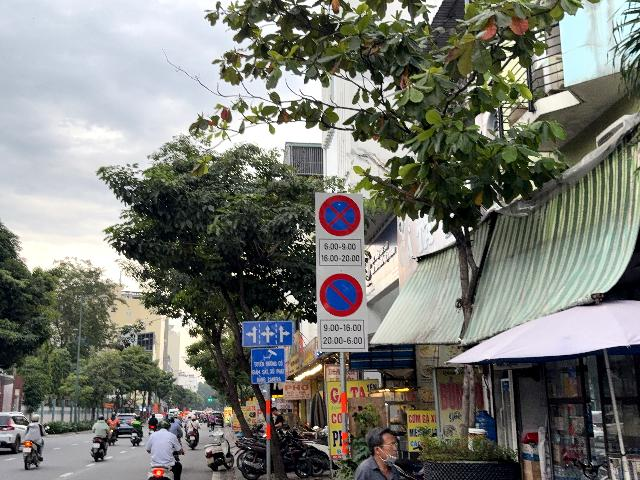cam-do-xe: (320, 273, 363, 317)
cam-dung-va-do-xe: (318, 195, 361, 236)
